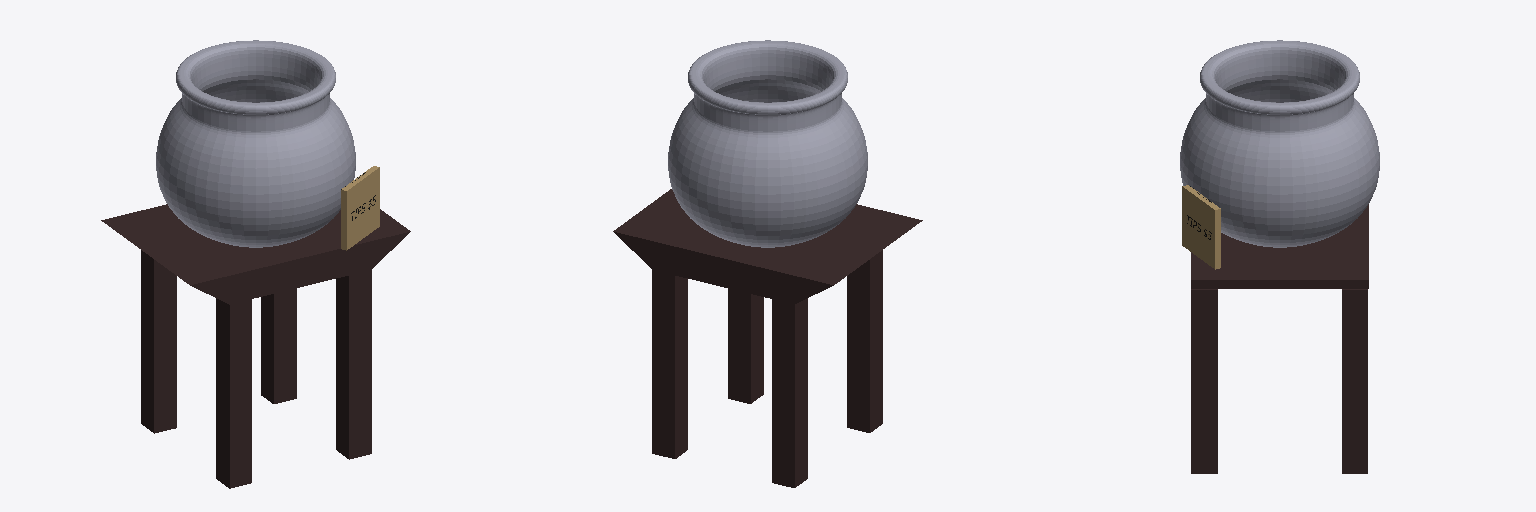
3 views of the same model, side by side, from view 1: azimuth 30°, elevation 25°; view 2: azimuth 150°, elevation 25°; view 3: azimuth 270°, elevation 25° (orthographic).
Parts seen in each view (by area): view 1: _Honey_Jar_v1:_Honey_Jar_v1, pCube1, pasted__pCube2 group, pasted__pCube2 group1, pasted__pCube2 group2, pCube2, pCube3; view 2: _Honey_Jar_v1:_Honey_Jar_v1, pCube1, pasted__pCube2 group2, pCube2, pasted__pCube2 group, pasted__pCube2 group1; view 3: _Honey_Jar_v1:_Honey_Jar_v1, pCube1, pasted__pCube2 group1, pCube2, pCube3.
Part boxes in pixels (bbox=[...]): _Honey_Jar_v1:_Honey_Jar_v1: bbox=[156, 40, 355, 247]; pCube1: bbox=[101, 204, 410, 304]; pasted__pCube2 group: bbox=[216, 298, 251, 488]; pasted__pCube2 group1: bbox=[336, 270, 371, 459]; pasted__pCube2 group2: bbox=[141, 250, 176, 433]; pCube2: bbox=[261, 288, 296, 403]; pCube3: bbox=[341, 166, 379, 250]; _Honey_Jar_v1:_Honey_Jar_v1: bbox=[668, 40, 867, 247]; pCube1: bbox=[613, 189, 922, 304]; pasted__pCube2 group2: bbox=[772, 298, 807, 487]; pCube2: bbox=[652, 270, 687, 458]; pasted__pCube2 group: bbox=[847, 250, 882, 432]; pasted__pCube2 group1: bbox=[728, 288, 763, 403]; _Honey_Jar_v1:_Honey_Jar_v1: bbox=[1180, 40, 1379, 247]; pCube1: bbox=[1191, 204, 1368, 288]; pasted__pCube2 group1: bbox=[1191, 289, 1217, 473]; pCube2: bbox=[1342, 289, 1367, 473]; pCube3: bbox=[1182, 185, 1220, 269].
Size of the model in its own units: 1.43 by 2.26 by 1.12.
3 materials, 3 textured.